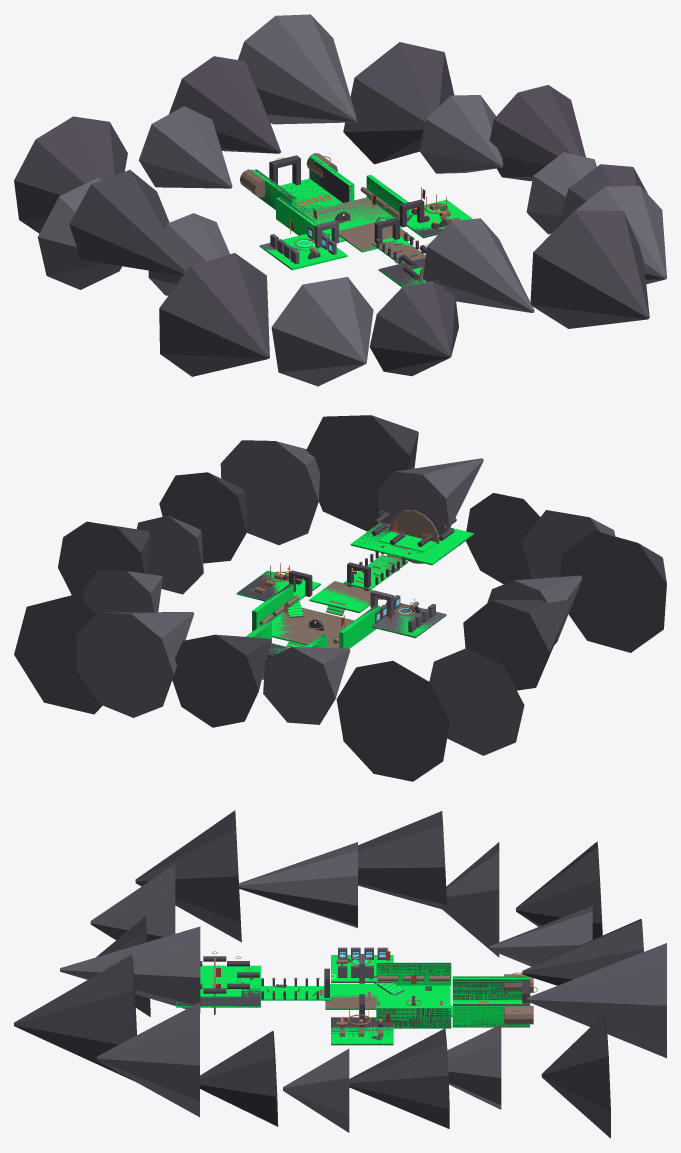
The model's file is relic-fortress.glb.
3 views of the same model, one above another, from view 1: azimuth 30°, elevation 25°; view 2: azimuth 150°, elevation 25°; view 3: azimuth 270°, elevation 25° (orthographic). The views are drawn at different scales.
Parts seen in each view (by area): view 1: Mountain_3, Mountain_7, Mountain_14, Mountain_15, Mountain_6, Mountain_9, Mountain_11, Mountain_4, Mountain_5, Mountain_13, Mountain_17, Mountain_12 (+17 smaller); view 2: Mountain_11, Mountain_7, Mountain_14, Mountain_3, Mountain_2, Mountain_10, Mountain_13, Mountain_15, Mountain_9, Mountain_1, Mountain_12, Mountain_5 (+17 smaller); view 3: Mountain_14, Mountain_3, Mountain_7, Mountain_2, Mountain_9, Mountain_17, Mountain_8, Mountain_4, Mountain_15, Mountain_1, Mountain_11, Mountain_10 (+24 smaller).
Boxes of the visible parts, left/top/right/bottom form: Mountain_3: left=530, top=210, right=649, bottom=328; Mountain_7: left=159, top=253, right=269, bottom=376; Mountain_14: left=238, top=14, right=356, bottom=124; Mountain_15: left=343, top=42, right=454, bottom=164; Mountain_6: left=271, top=277, right=373, bottom=386; Mountain_9: left=69, top=170, right=187, bottom=275; Mountain_11: left=14, top=116, right=127, bottom=233; Mountain_4: left=423, top=218, right=534, bottom=312; Mountain_5: left=369, top=281, right=458, bottom=376; Mountain_13: left=169, top=56, right=280, bottom=153; Mountain_17: left=489, top=85, right=585, bottom=181; Mountain_12: left=139, top=106, right=232, bottom=188; Mountain_11: left=336, top=661, right=449, bottom=781; Mountain_7: left=560, top=530, right=666, bottom=652; Mountain_14: left=76, top=612, right=193, bottom=717; Mountain_3: left=306, top=415, right=418, bottom=531; Mountain_2: left=220, top=440, right=319, bottom=545; Mountain_10: left=429, top=648, right=524, bottom=755; Mountain_13: left=172, top=634, right=271, bottom=727; Mountain_15: left=14, top=595, right=102, bottom=714; Mountain_9: left=463, top=600, right=572, bottom=690; Mountain_1: left=159, top=472, right=246, bottom=563; Mountain_12: left=263, top=647, right=350, bottom=724; Mountain_5: left=466, top=493, right=540, bottom=584; Mountain_14: left=527, top=943, right=666, bottom=1058; Mountain_3: left=14, top=954, right=136, bottom=1081; Mountain_7: left=135, top=810, right=241, bottom=942; Mountain_2: left=96, top=1002, right=199, bottom=1117; Mountain_9: left=358, top=811, right=446, bottom=909; Mountain_17: left=349, top=1028, right=449, bottom=1128; Mountain_8: left=239, top=842, right=357, bottom=928; Mountain_4: left=60, top=926, right=200, bottom=1012; Mountain_15: left=541, top=1012, right=610, bottom=1138; Mountain_1: left=200, top=1031, right=278, bottom=1126; Mountain_11: left=516, top=841, right=602, bottom=939; Mountain_10: left=441, top=842, right=499, bottom=957.
Size of the model in its own units: 160 by 41.98 by 177.
